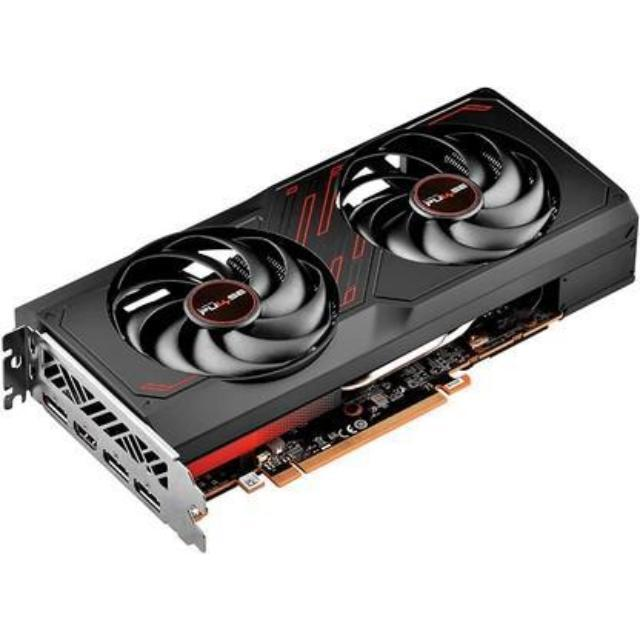GPU: (0, 77, 640, 525)
